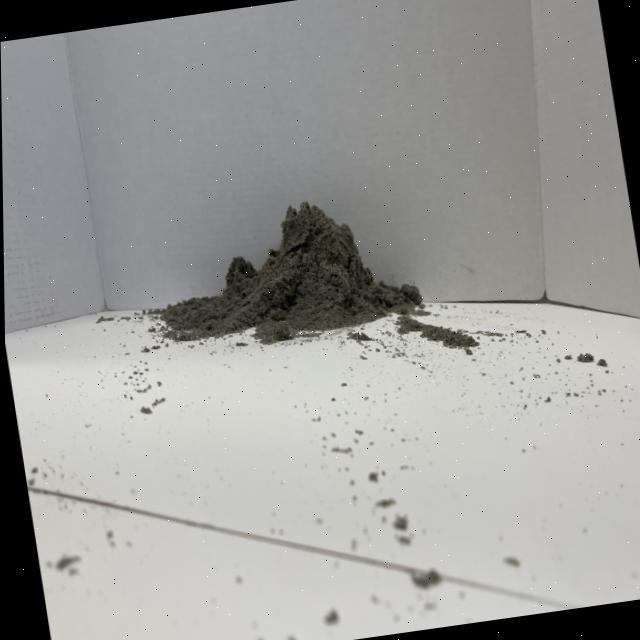sand: (134, 162, 456, 372)
